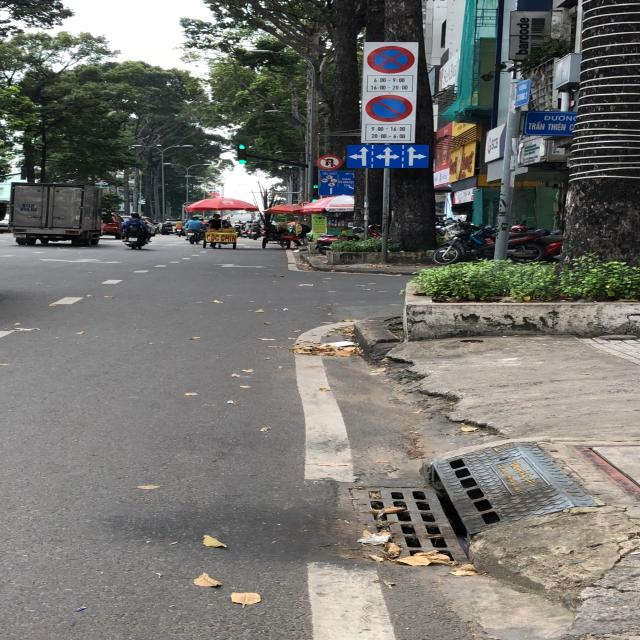Bien bao cam do xe: (362, 93, 416, 124)
Bien bao cam dung xe va do xe: (365, 44, 414, 74)
Bien bao cam quay dau xe: (313, 153, 344, 171)
